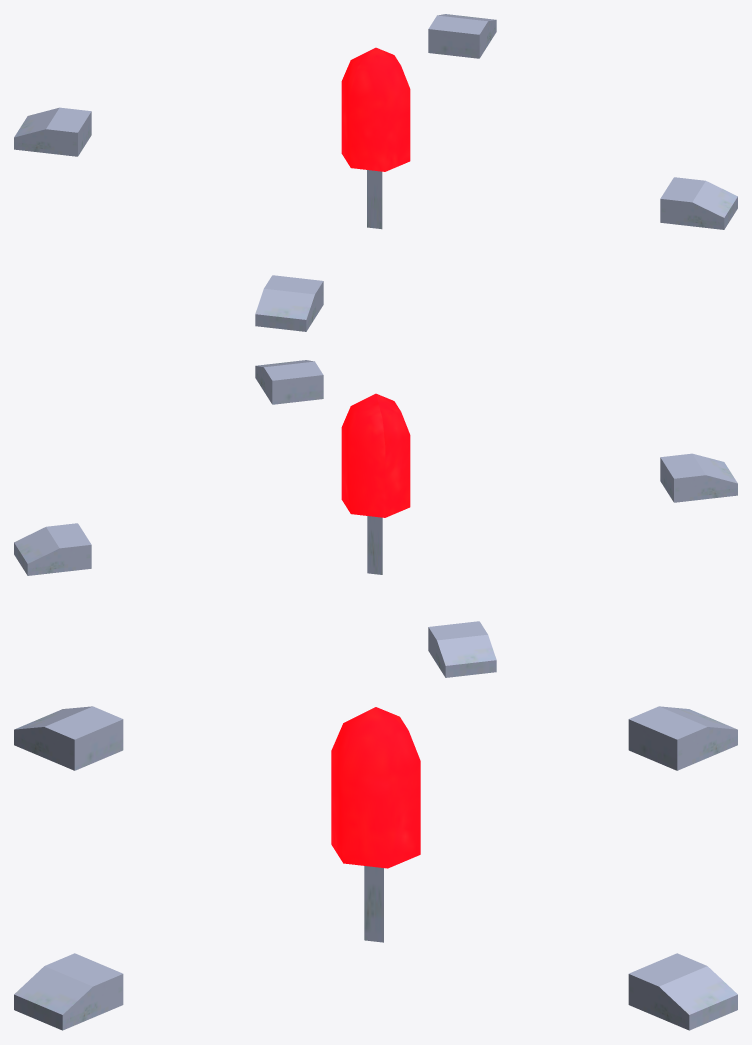
File: windsock-light-cbj_LOD02.gltf
3 renders of one model, top to bottom at view 1: azimuth 30°, elevation 25°; view 2: azimuth 150°, elevation 25°; view 3: azimuth 270°, elevation 25°, orthographic. The views are drawn at different scales.
Visible parts, largest first — view 1: Cube.001; view 2: Cube.001; view 3: Cube.001.
Boxes of the visible parts, x1=… form: Cube.001: x1=14, y1=14, x2=737, y2=331; Cube.001: x1=14, y1=360, x2=737, y2=677; Cube.001: x1=14, y1=706, x2=737, y2=1030.
Size of what is drawn, in the model's own units: 2.53 by 0.8943 by 2.53.
